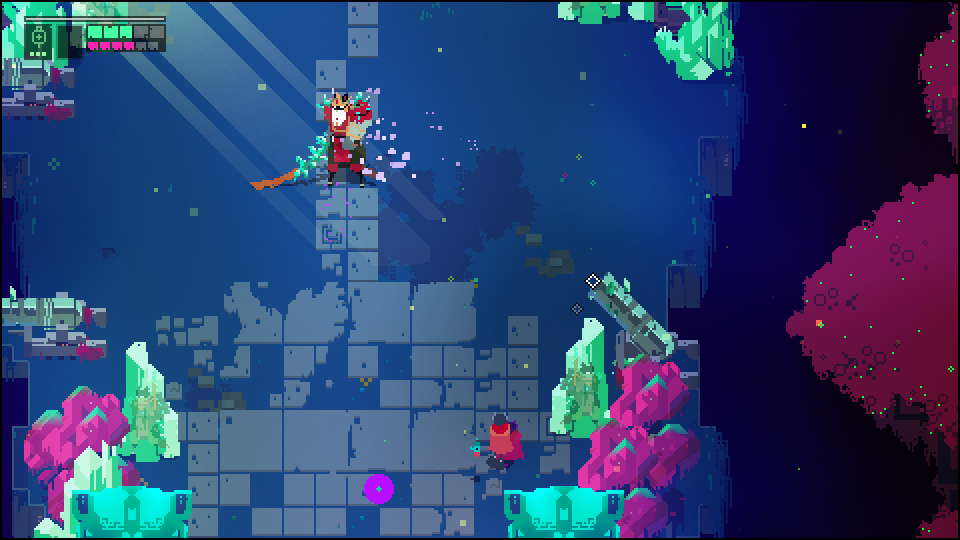hanged_man: (286, 85, 389, 194)
player: (487, 409, 515, 462)
